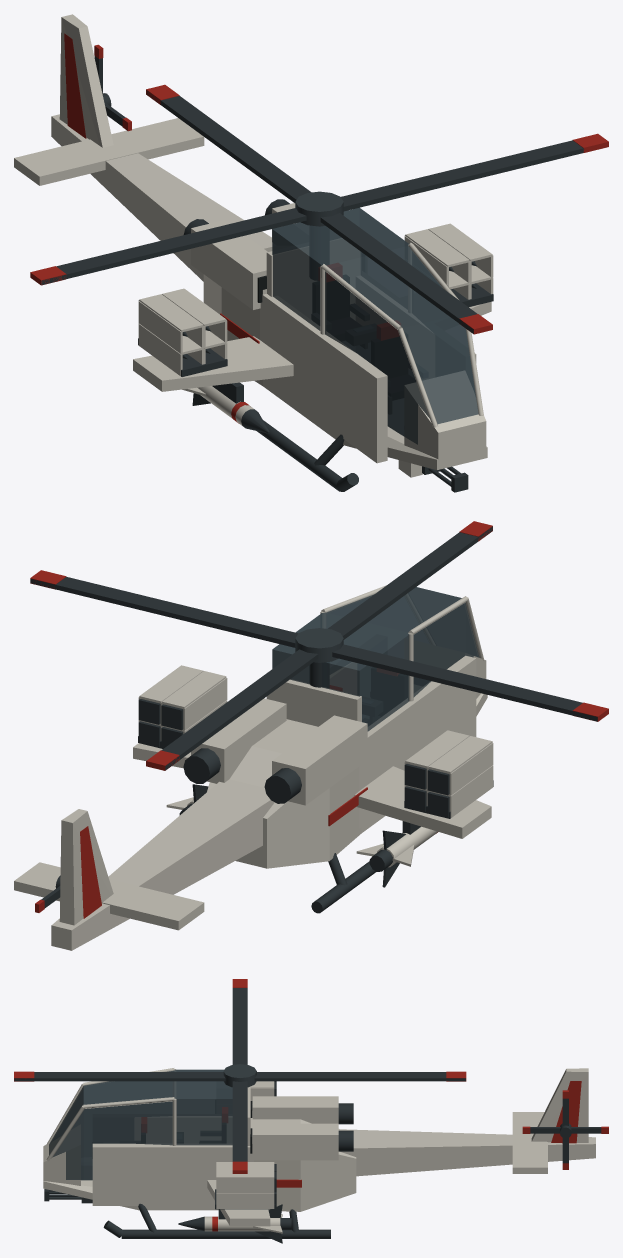
3 renders of one model, top to bottom at view 1: azimuth 30°, elevation 25°; view 2: azimuth 150°, elevation 25°; view 3: azimuth 270°, elevation 25°, orthographic. The views are drawn at different scales.
Visible parts, largest first — view 1: helicopter-painted, helicopter-glazing, rocket-pod--1-painted, blade-arm-2-painted, rocket-pod-1-painted, blade-arm-0-painted, blade-arm-3-painted, breakaway-0-painted, blade-arm-1-painted, crew-chair-pilot-painted, crew-chair-gunner-painted, store-left-large-painted (+1 smaller); view 2: helicopter-painted, helicopter-glazing, rocket-pod--1-painted, rocket-pod-1-painted, breakaway-0-painted, blade-arm-2-painted, blade-arm-0-painted, blade-arm-1-painted, blade-arm-3-painted, breakaway-1-painted, store-left-large-painted, crew-chair-gunner-painted (+1 smaller); view 3: helicopter-painted, helicopter-glazing, breakaway-1-painted, rocket-pod-1-painted, breakaway-0-painted, blade-arm-1-painted, blade-arm-3-painted, blade-arm-0-painted, store-right-large-painted, blade-arm-2-painted, rotor-main-fleet-machine, rocket-pod--1-painted (+1 smaller).
Boxes of the visible parts, box(x1,y1,x2,y2) form: helicopter-painted: box(14, 14, 491, 491); helicopter-glazing: box(272, 207, 478, 444); rocket-pod--1-painted: box(138, 288, 227, 376); blade-arm-2-painted: box(30, 208, 306, 285); rocket-pod-1-painted: box(404, 223, 493, 307); blade-arm-0-painted: box(341, 133, 608, 211); blade-arm-3-painted: box(320, 213, 492, 334); breakaway-0-painted: box(191, 220, 267, 309); blade-arm-1-painted: box(146, 84, 311, 202); crew-chair-pilot-painted: box(312, 263, 375, 362); crew-chair-gunner-painted: box(371, 320, 427, 413); store-left-large-painted: box(182, 386, 269, 433); helicopter-painted: box(14, 585, 491, 950); helicopter-glazing: box(272, 587, 479, 731); rocket-pod--1-painted: box(404, 730, 493, 818); rocket-pod-1-painted: box(138, 665, 227, 748); breakaway-0-painted: box(272, 715, 367, 805); blade-arm-2-painted: box(332, 644, 608, 721); blade-arm-0-painted: box(30, 570, 298, 647); blade-arm-1-painted: box(146, 649, 318, 770); blade-arm-3-painted: box(327, 521, 492, 639); breakaway-1-painted: box(191, 698, 286, 783); store-left-large-painted: box(356, 826, 438, 887); crew-chair-gunner-painted: box(370, 667, 429, 724); helicopter-painted: box(43, 1068, 595, 1238); helicopter-glazing: box(49, 1069, 232, 1180); breakaway-1-painted: box(252, 1123, 338, 1160); rocket-pod-1-painted: box(215, 1162, 276, 1209); breakaway-0-painted: box(252, 1096, 338, 1123); blade-arm-1-painted: box(254, 1071, 466, 1081); blade-arm-3-painted: box(14, 1071, 225, 1081); blade-arm-0-painted: box(232, 1081, 247, 1173); store-right-large-painted: box(178, 1204, 291, 1243); blade-arm-2-painted: box(232, 979, 247, 1064); rotor-main-fleet-machine: box(223, 1064, 256, 1087); rocket-pod--1-painted: box(250, 1081, 276, 1110).
Bounding box in the file's own units: 50.42 × 18.06 × 66.32.
